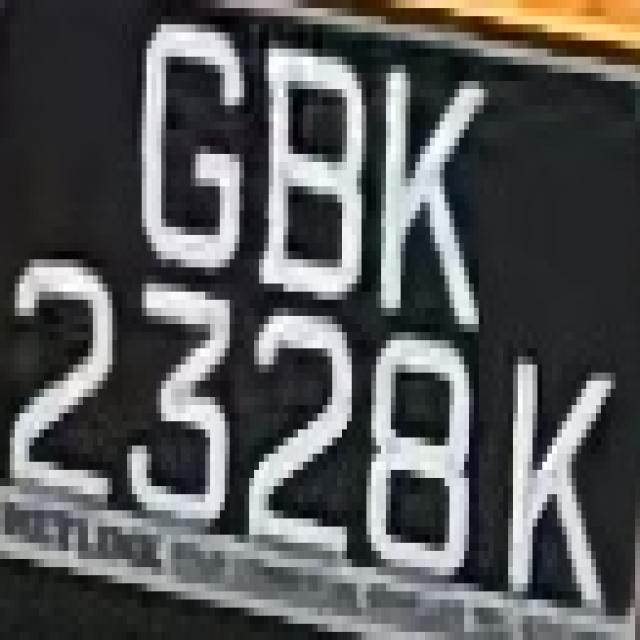2: (240, 276, 362, 567), (15, 227, 127, 543)
3: (127, 259, 249, 535)
8: (371, 316, 479, 591)
B: (259, 32, 366, 324)
G: (112, 8, 264, 267)
K: (366, 48, 498, 356), (498, 332, 626, 632)
